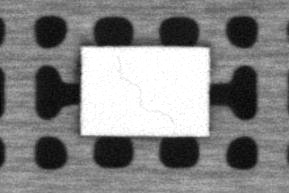DIE_CRACK: (116, 54, 174, 128)
